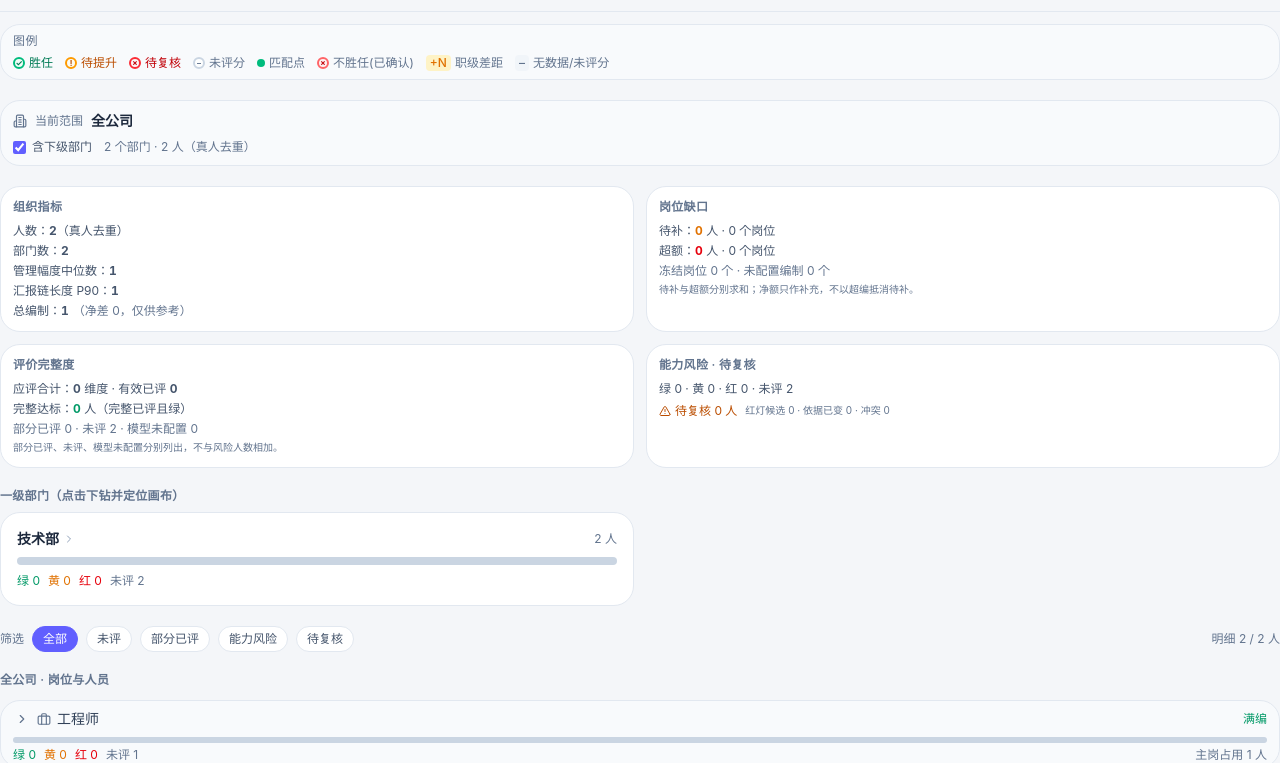
Test: 体验断点回归 › 汇总下钻包含子部门员工，未评岗位不显示无胜任者
Click the button "技术部 2 人 绿 0 黄 0 红 0 未评 2" at (317,559), box x1=0 y1=512 x2=634 y2=606
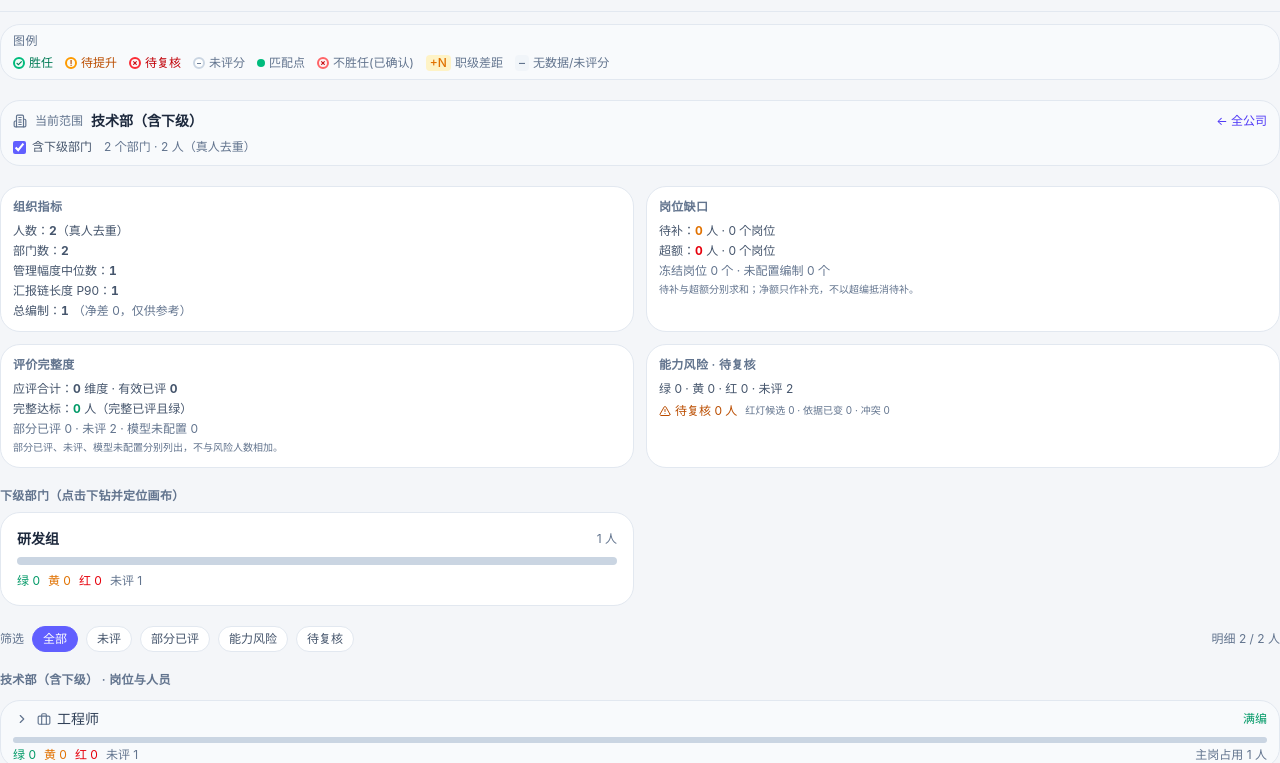
expect the text "工程师" is shown: met, box x1=57 y1=709 x2=99 y2=729
Click the button titled "展开员工" at (22,719), box x1=13 y1=710 x2=31 y2=728
(page scrolled)
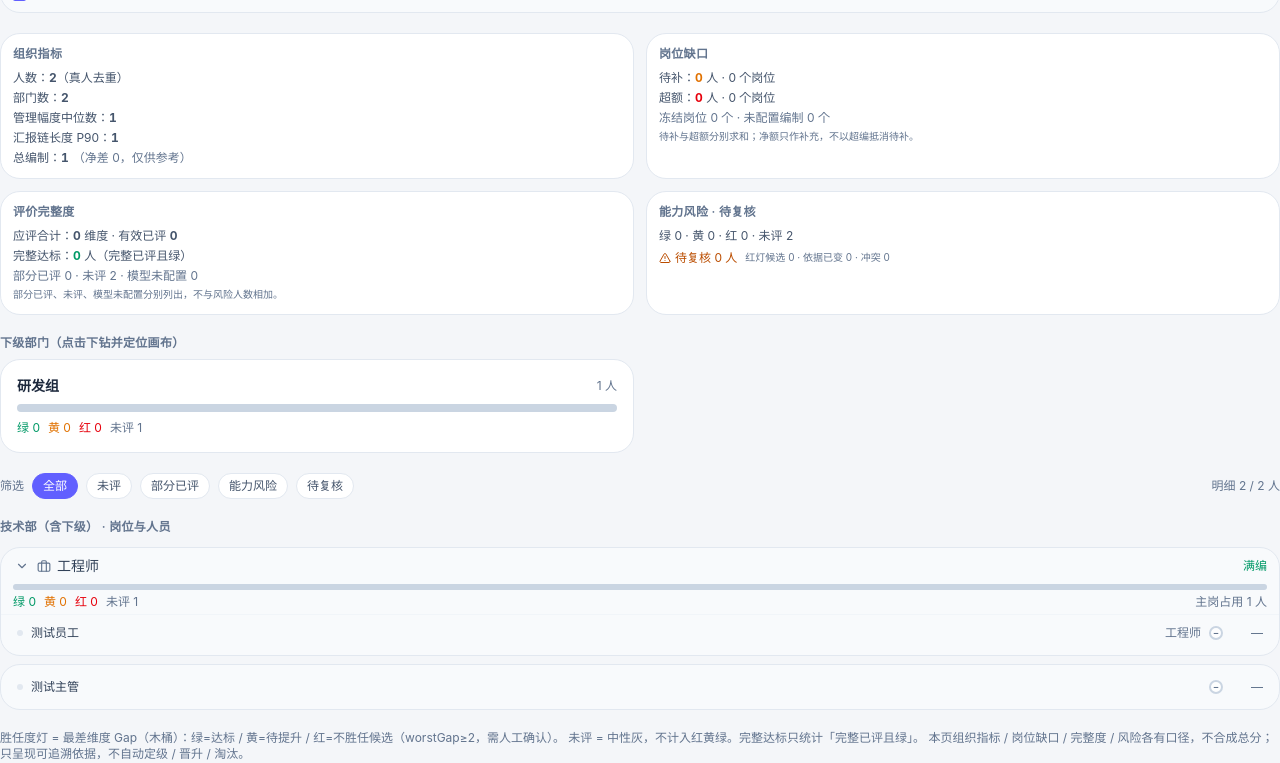
expect the button with aria-label "查看 测试主管 的胜任度详情" is shown: met, box x1=17 y1=679 x2=1263 y2=694
expect the text "测试员工" is shown: met, box x1=31 y1=625 x2=79 y2=640
